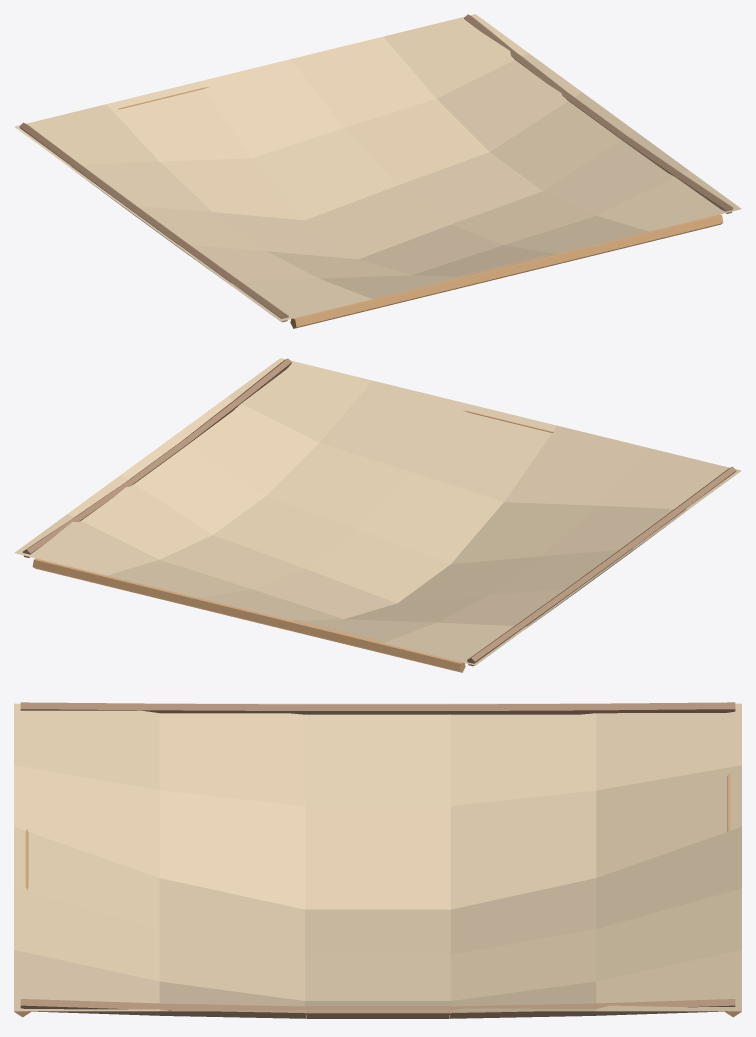
File: excavation_awning.glb
The picture shows the model from 3 angles, top to bottom: view 1: azimuth 30°, elevation 25°; view 2: azimuth 150°, elevation 25°; view 3: azimuth 270°, elevation 25°; orthographic projection. The views are drawn at different scales.
Size of the model in its own units: 1 by 0.1516 by 1.
